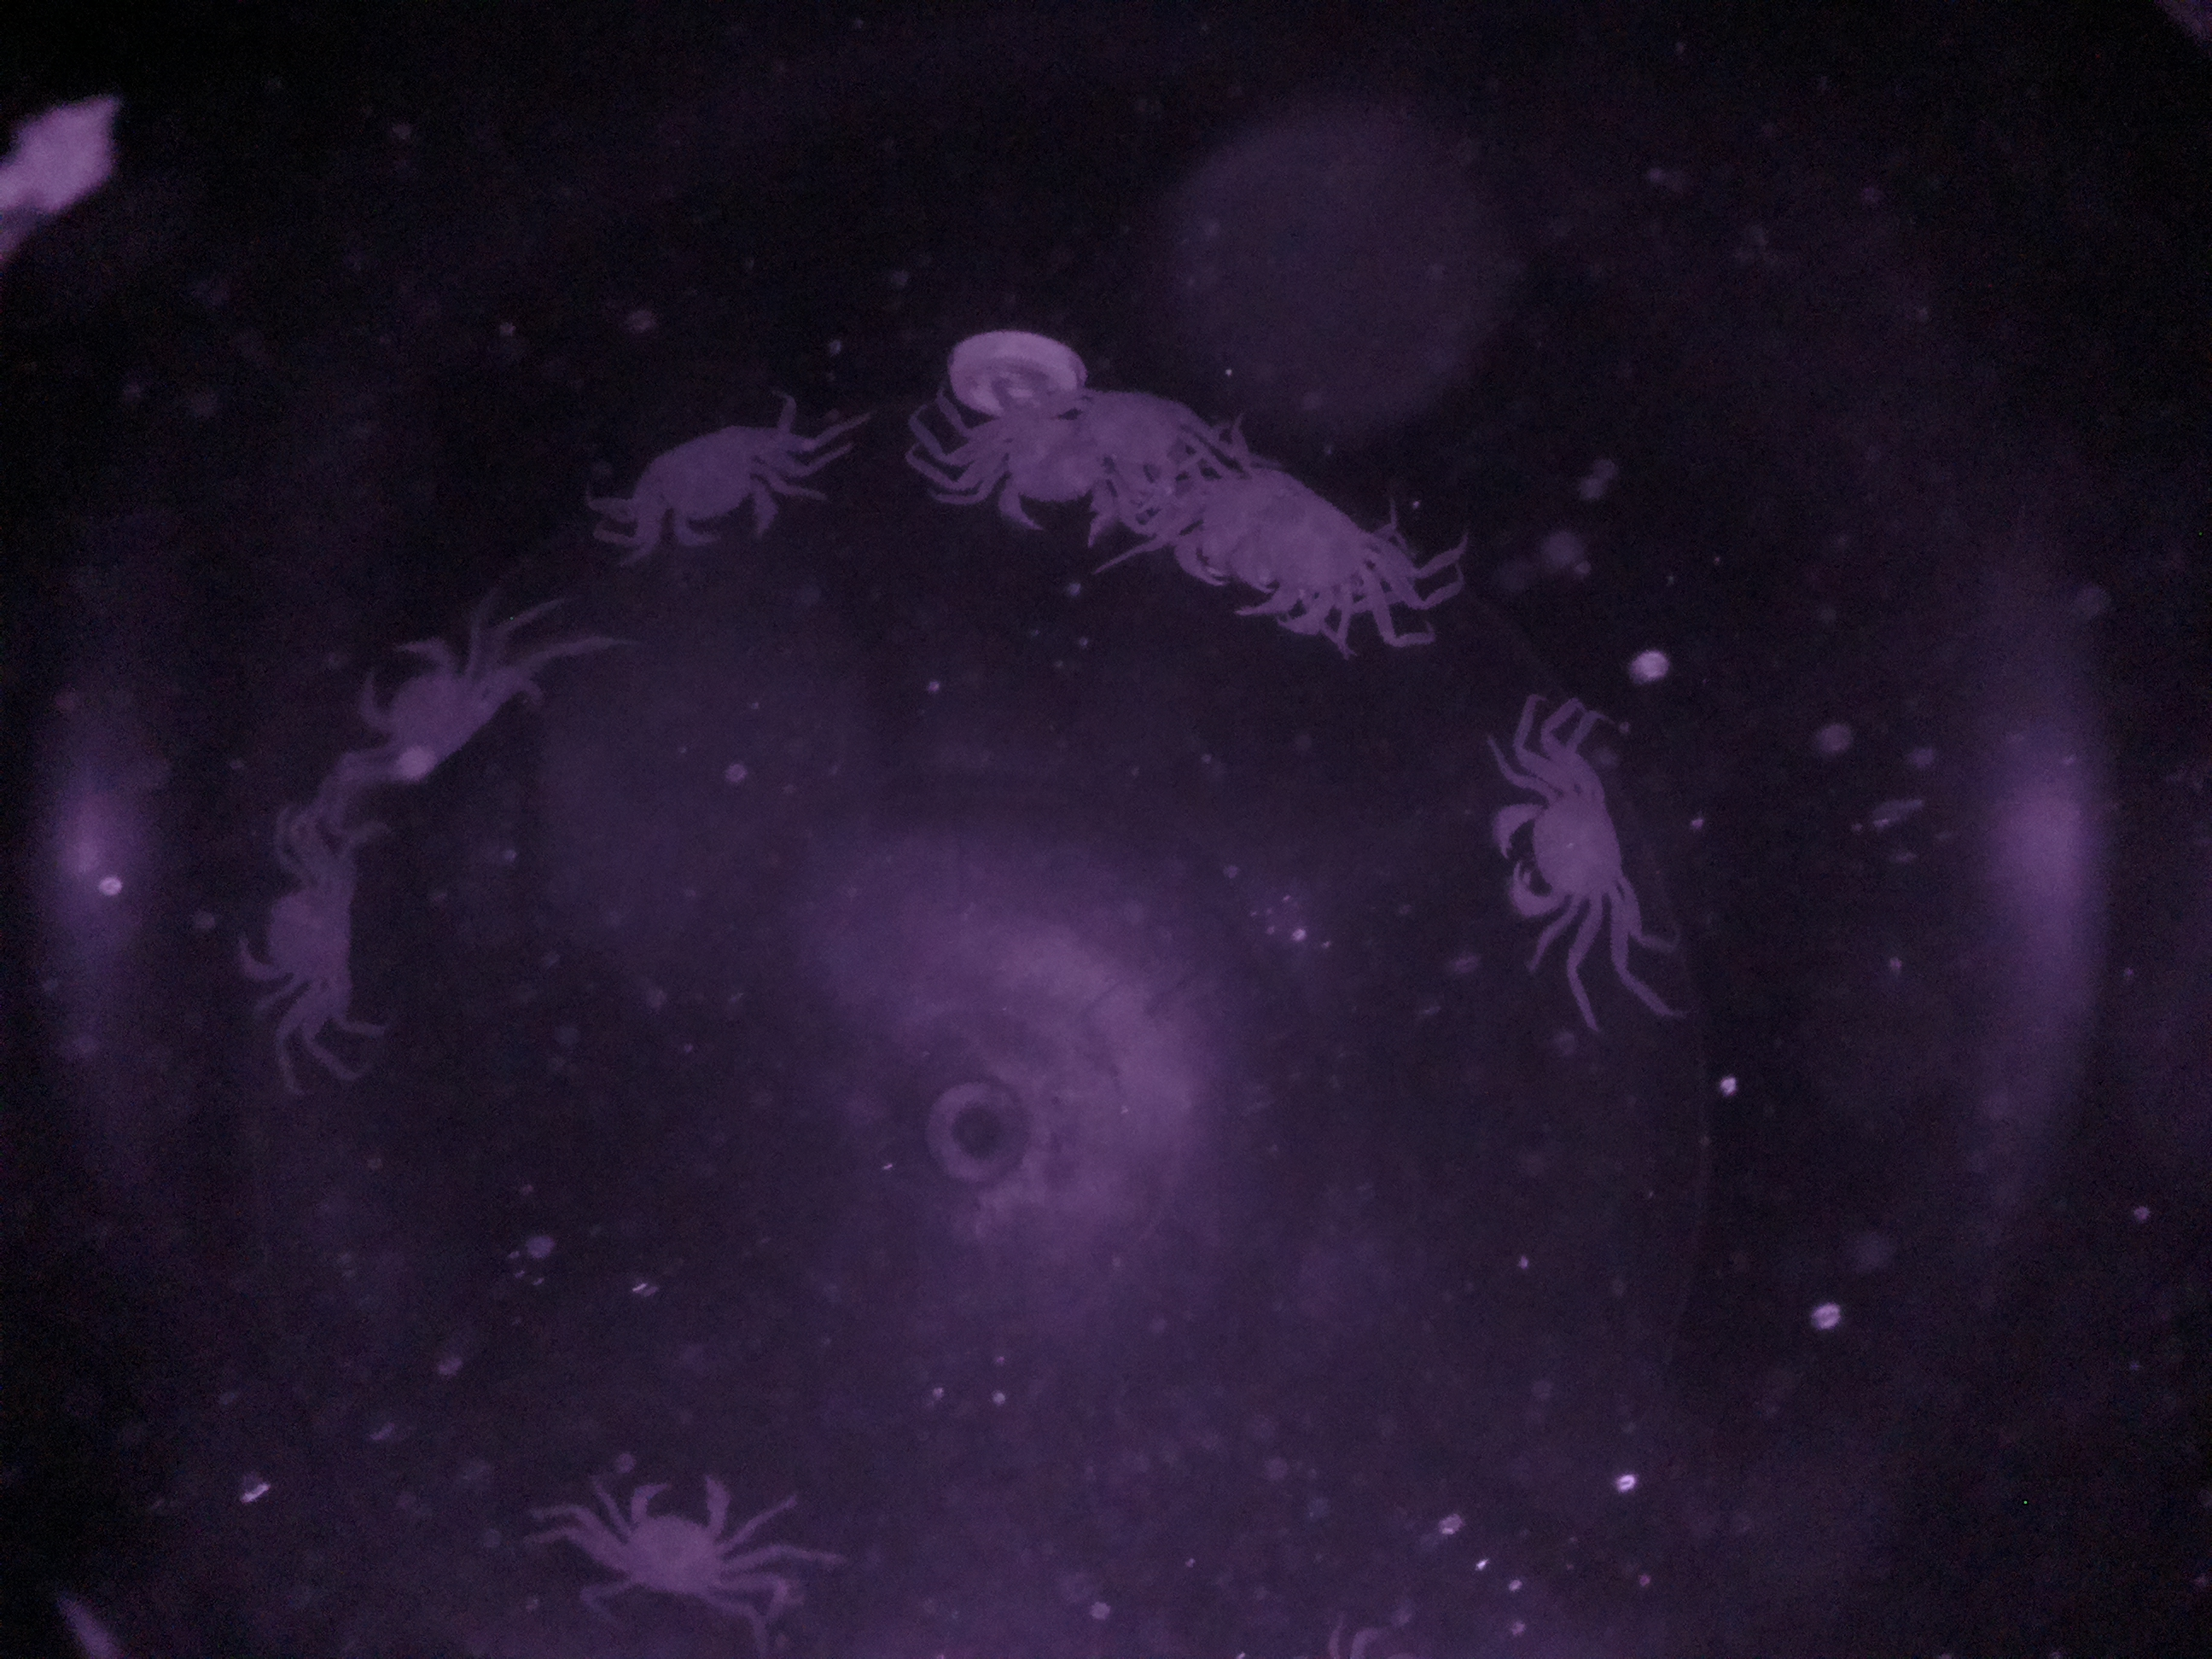Crab: (1484, 730, 1662, 986), (608, 406, 817, 573), (575, 1452, 768, 1622)
